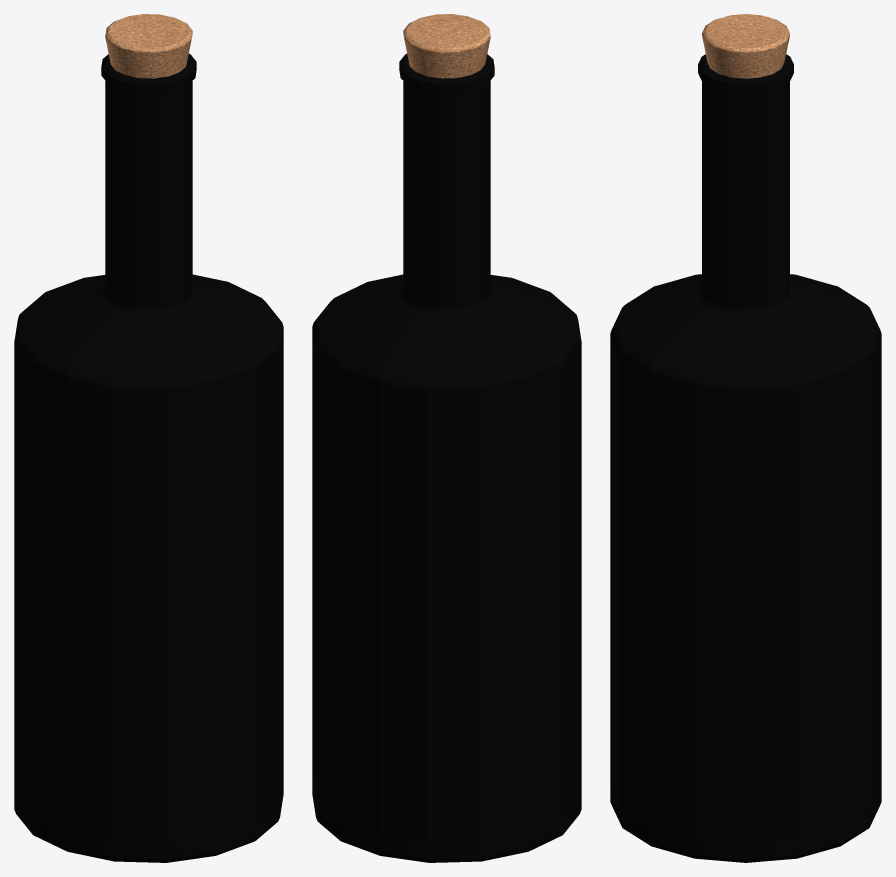
The model's file is Bottle.fbx.
3 renders of one model, left to right at view 1: azimuth 30°, elevation 25°; view 2: azimuth 150°, elevation 25°; view 3: azimuth 270°, elevation 25°, orthographic.
Parts seen in each view (by area): view 1: polySurface2, polySurface4; view 2: polySurface2, polySurface4; view 3: polySurface2, polySurface4.
Boxes of the visible parts, <box> form: polySurface2: <box>14,53,283,862</box>; polySurface4: <box>105,14,192,78</box>; polySurface2: <box>312,53,581,862</box>; polySurface4: <box>403,14,490,78</box>; polySurface2: <box>610,54,881,862</box>; polySurface4: <box>702,14,789,78</box>.
Size of the model in its own units: 4.58 by 14.45 by 4.58.
Materials: 3 (1 with a texture image).
